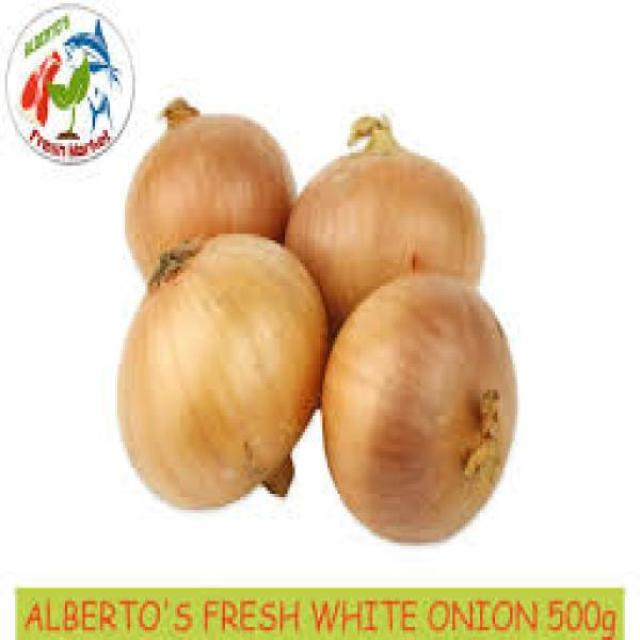Onion: (112, 233, 337, 513), (319, 272, 519, 546), (283, 147, 485, 345), (124, 103, 298, 284)
